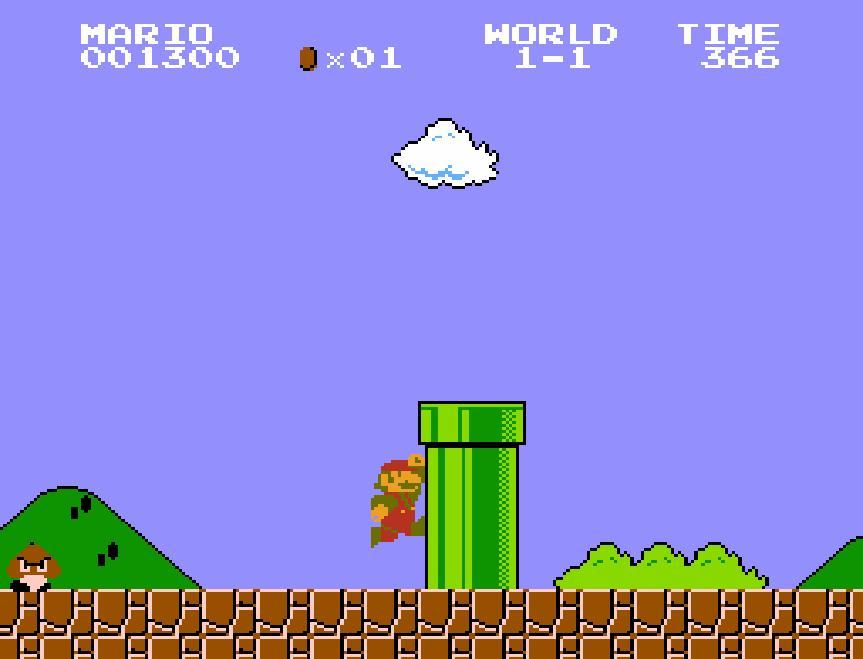big_mario: (368, 452, 426, 550)
